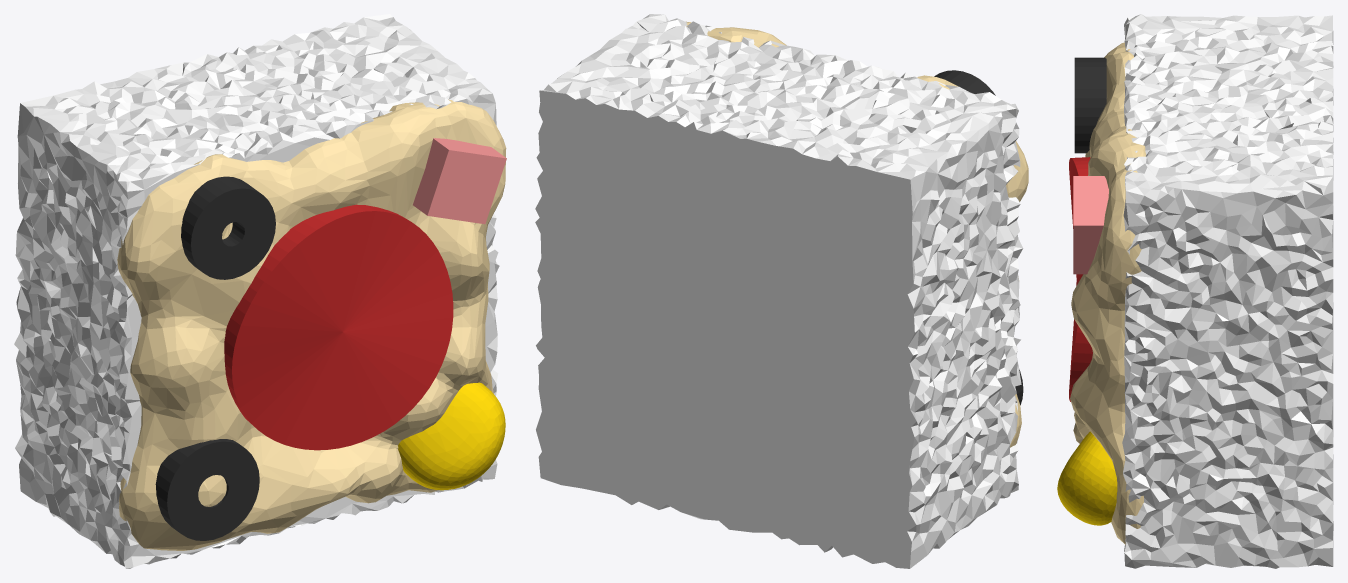
File: pizza_seolgi.glb
3 renders of one model, left to right at view 1: azimuth 30°, elevation 25°; view 2: azimuth 150°, elevation 25°; view 3: azimuth 270°, elevation 25°, orthographic. The views are drawn at different scales.
Parts seen in each view (by area): view 1: Cube.686, Cube.685; view 2: Cube.685, Cube.686; view 3: Cube.685, Cube.686.
Part boxes in pixels (x1,y1,x2,y2): Cube.686: [117, 99, 506, 550]; Cube.685: [14, 14, 499, 568]; Cube.685: [535, 14, 1023, 568]; Cube.686: [686, 21, 1028, 447]; Cube.685: [1122, 14, 1333, 568]; Cube.686: [1057, 42, 1146, 544].
Bounding box in the file's own units: 12.48 × 12.43 × 7.96.
